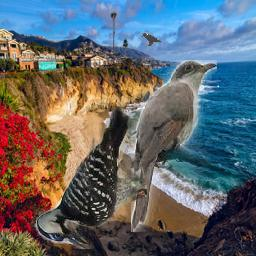Crow: (141, 32, 161, 46)
Cuckoo: (131, 60, 217, 232)
Woodpecker: (35, 107, 148, 250)
